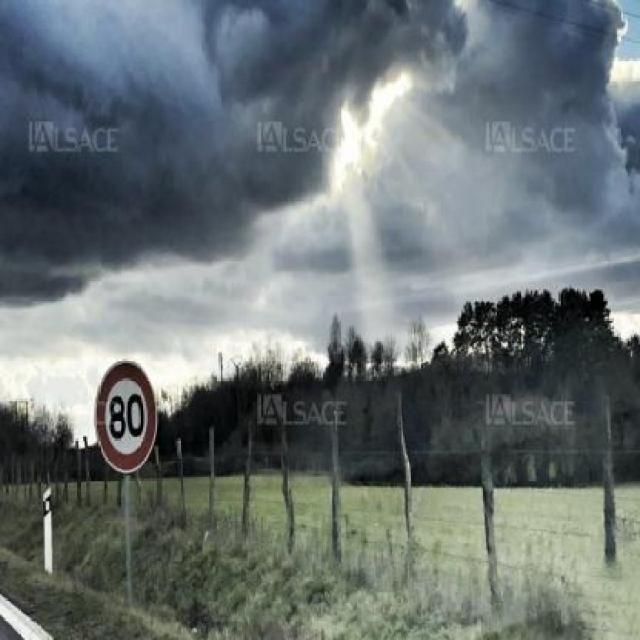forb_speed_over_80: (99, 361, 159, 472)
